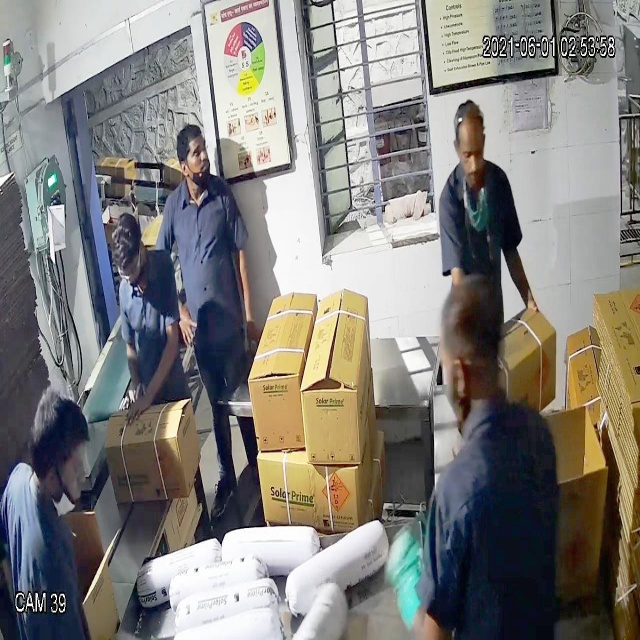Gafas: (106, 241, 152, 293)
Sin_gafas: (454, 132, 490, 171)
